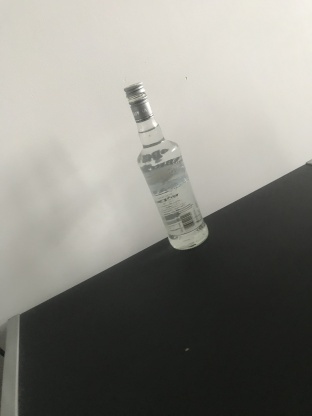nakretka: (122, 79, 154, 123)
